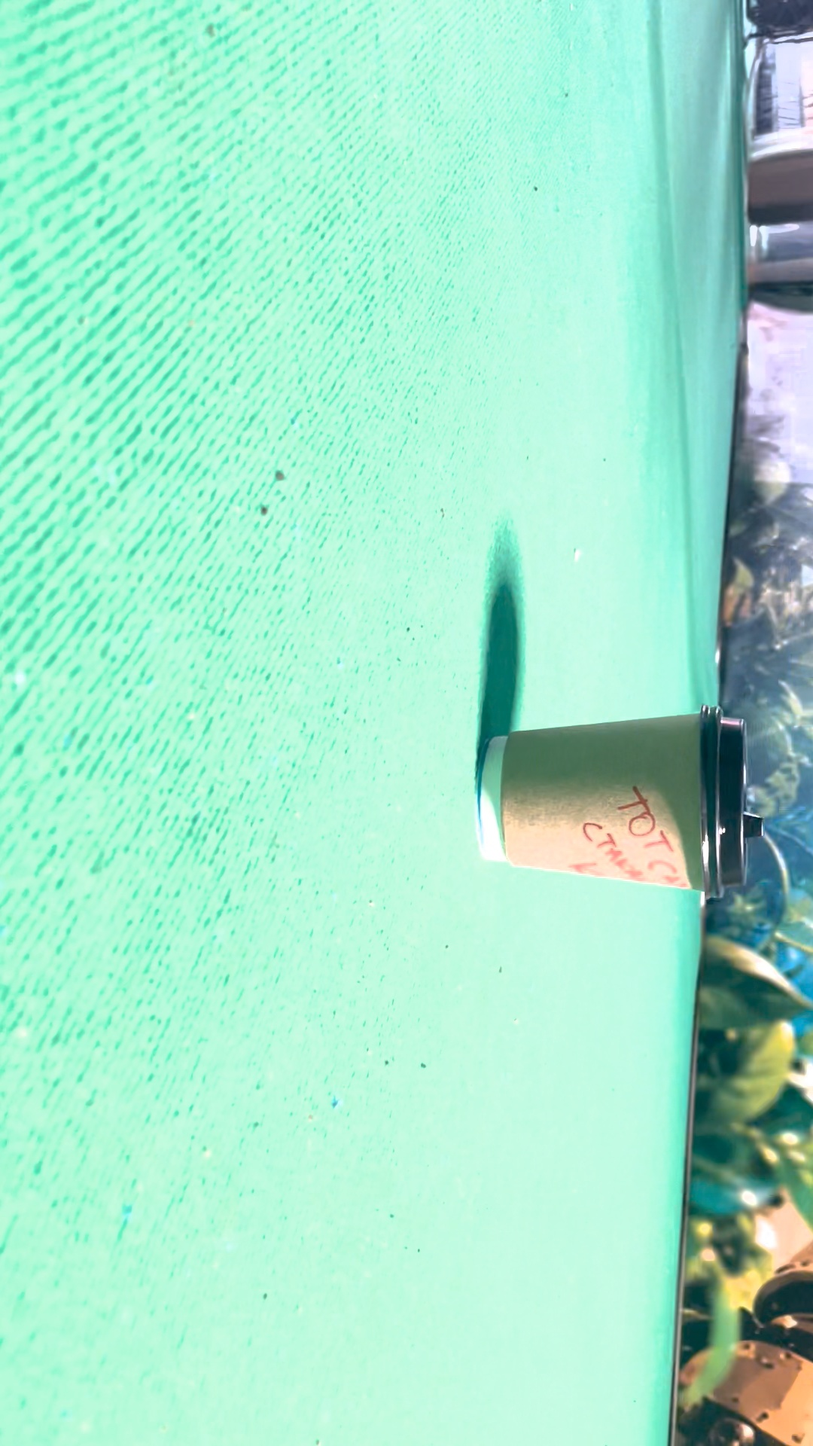cup: (409, 545, 488, 944)
